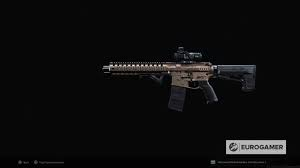gun: (99, 45, 258, 112)
